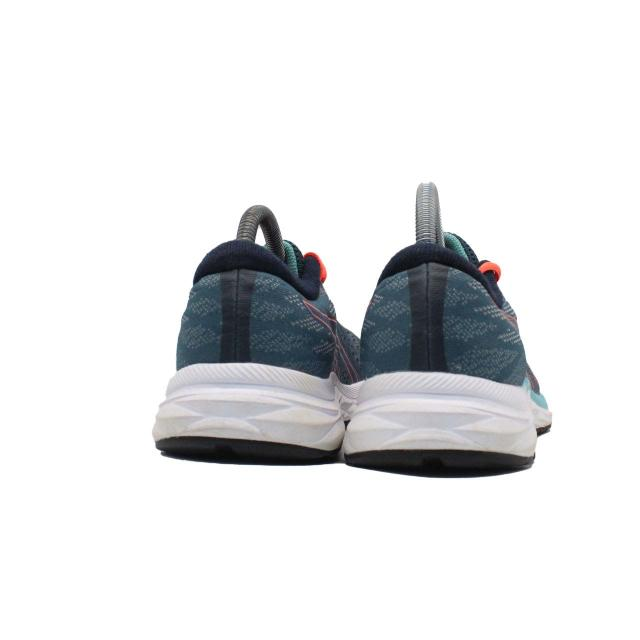heel: (361, 248, 510, 376), (178, 250, 316, 374)
midsole: (153, 365, 342, 459), (345, 374, 536, 466)
